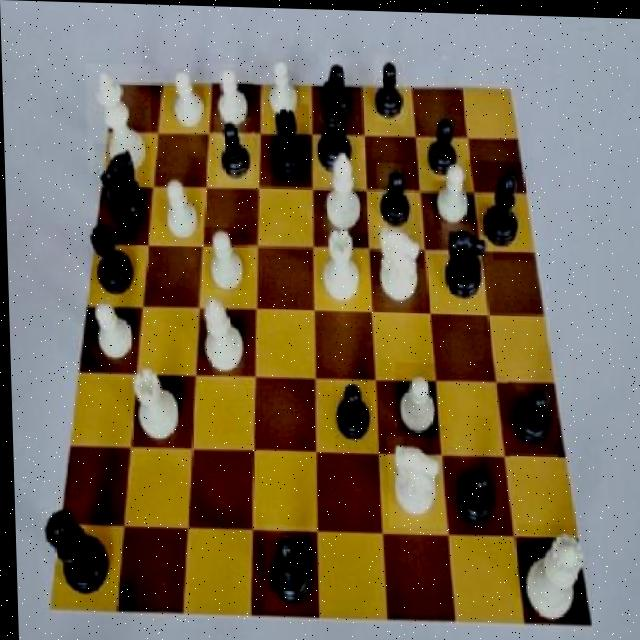bishop: (477, 159, 530, 257), (261, 523, 316, 611)
black-bishop: (311, 67, 356, 176)
black-king: (94, 142, 153, 233), (440, 221, 493, 306)
black-knight: (506, 373, 555, 460), (330, 372, 377, 451), (450, 450, 497, 528), (418, 110, 465, 178), (376, 161, 415, 232), (213, 115, 252, 183), (321, 55, 360, 122), (373, 52, 407, 120)
black-pawn: (36, 498, 115, 593)
black-queen: (85, 217, 137, 296), (269, 101, 310, 187)
black-rook: (196, 288, 251, 376), (320, 144, 366, 230)
white-bishop: (86, 62, 153, 176)
white-king: (384, 435, 442, 527), (373, 219, 427, 307)
white-knight: (82, 291, 136, 366), (156, 171, 202, 242), (212, 63, 255, 137), (431, 156, 473, 228), (203, 225, 247, 292), (393, 360, 434, 431), (163, 67, 207, 130), (267, 52, 303, 118)
white-pawn: (515, 521, 589, 622)
white-queen: (126, 361, 185, 444), (313, 223, 365, 310)
